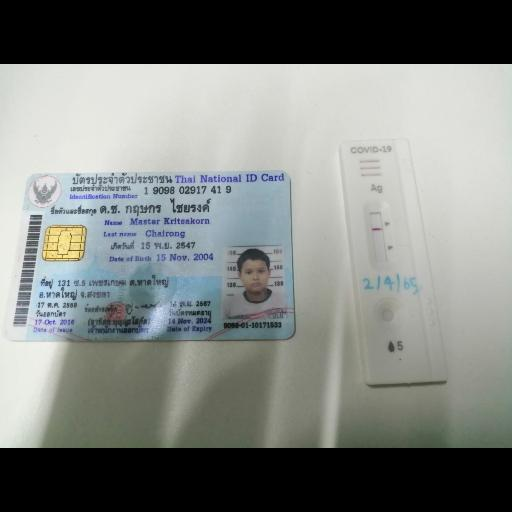Neg: (342, 139, 447, 385)
